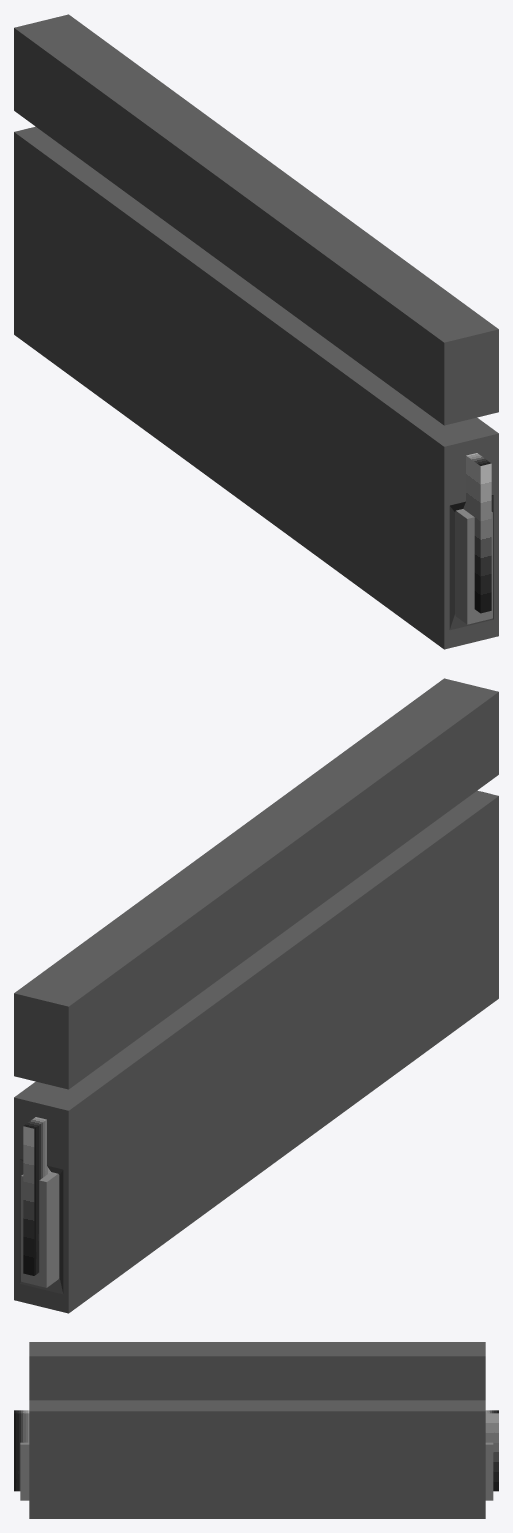
The model's file is hdd.FBX.
The picture shows the model from 3 angles, top to bottom: view 1: azimuth 30°, elevation 25°; view 2: azimuth 150°, elevation 25°; view 3: azimuth 270°, elevation 25°; orthographic projection. The views are drawn at different scales.
Visible parts, largest first — view 1: hdd, hdd_glow; view 2: hdd, hdd_glow; view 3: hdd, hdd_glow.
Part boxes in pixels (<box>): hdd: <box>14,14,498,649</box>; hdd_glow: <box>463,453,491,613</box>; hdd: <box>14,678,498,1313</box>; hdd_glow: <box>23,791,482,1275</box>; hdd: <box>20,1342,493,1518</box>; hdd_glow: <box>14,1410,498,1491</box>.
Bounding box in the file's own units: 6.97 × 37.29 × 101.
